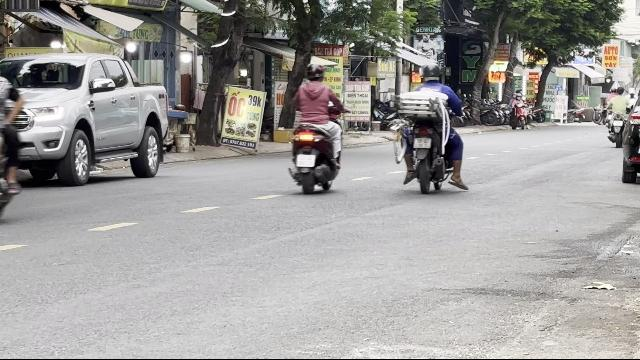helmet: (419, 62, 441, 82), (306, 63, 326, 82)
licenseplate: (297, 155, 315, 167), (414, 138, 431, 148)
motorcyclist: (392, 61, 466, 193), (286, 62, 344, 194)
